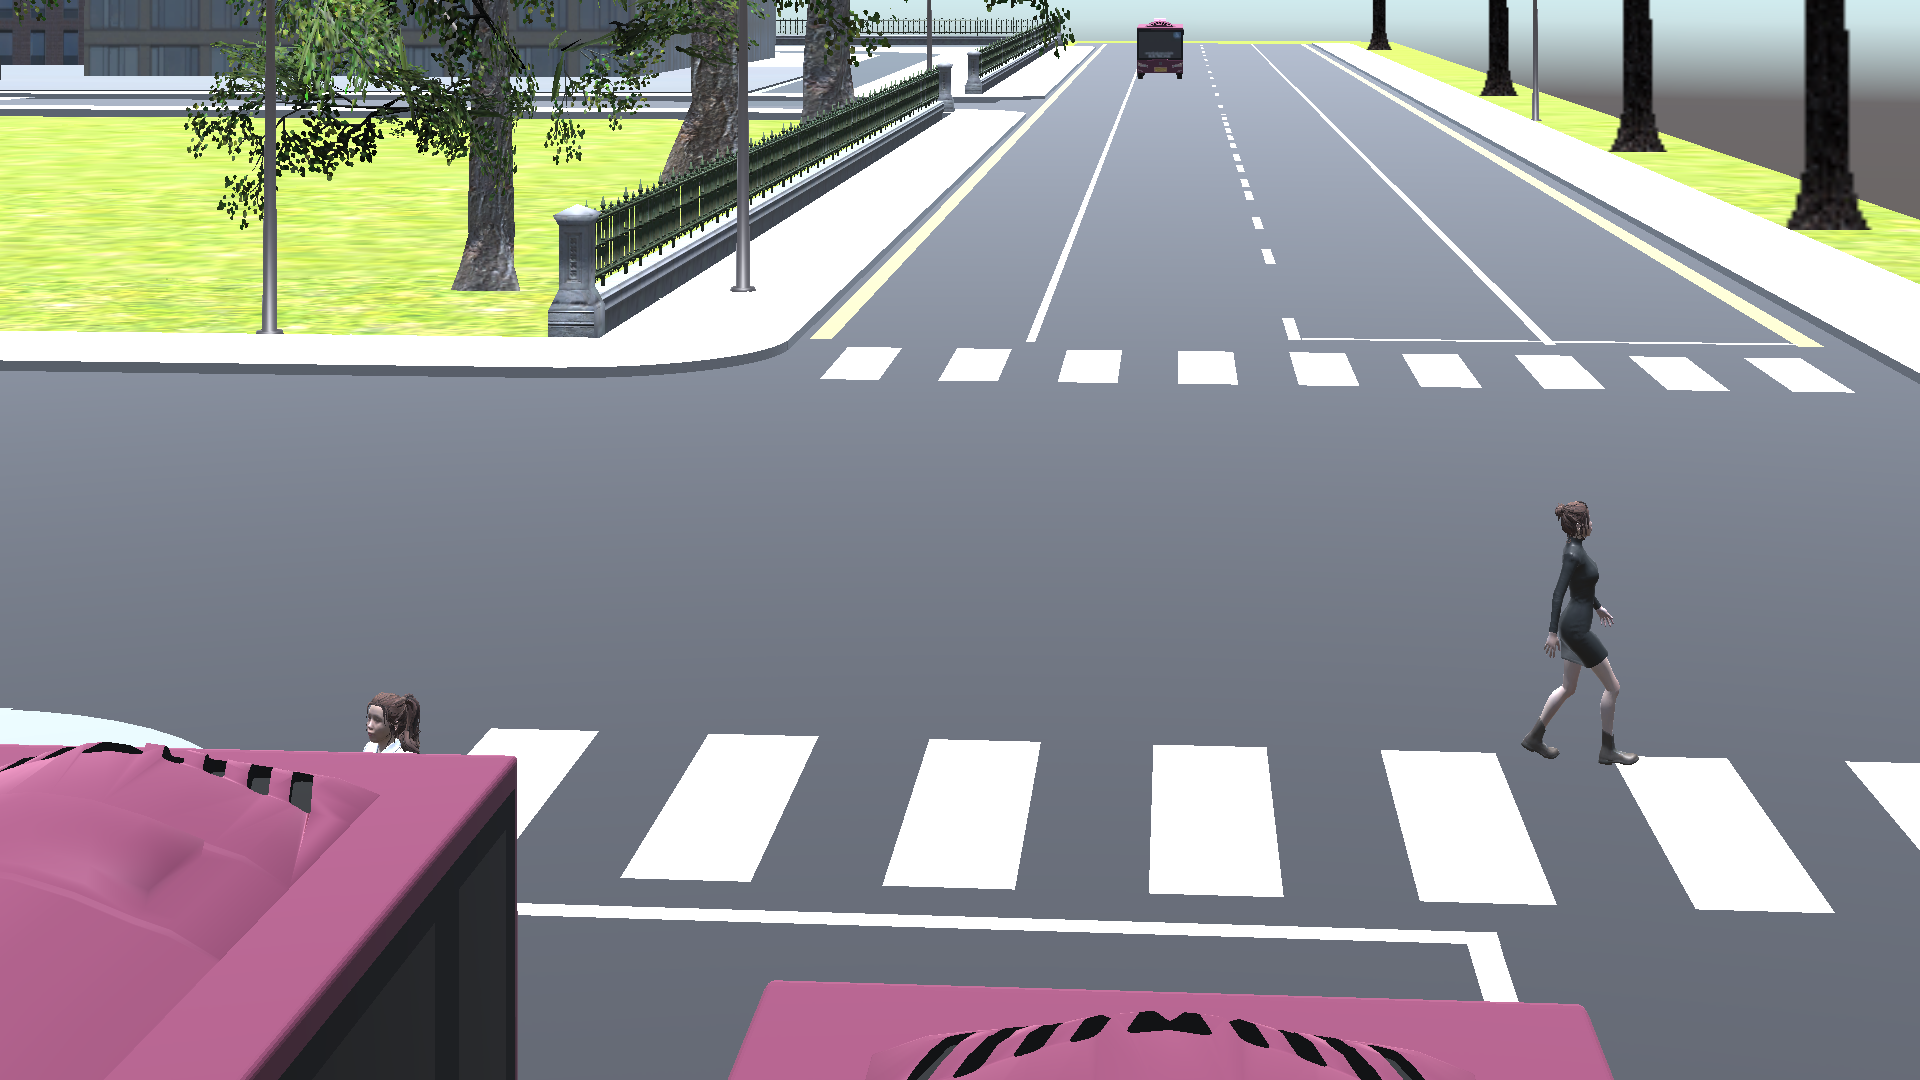pedestrian: (1526, 497, 1649, 772), (348, 682, 436, 748)
